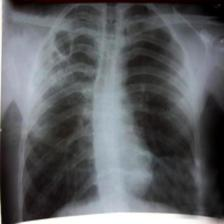tuberculosis: (16, 2, 205, 214)
